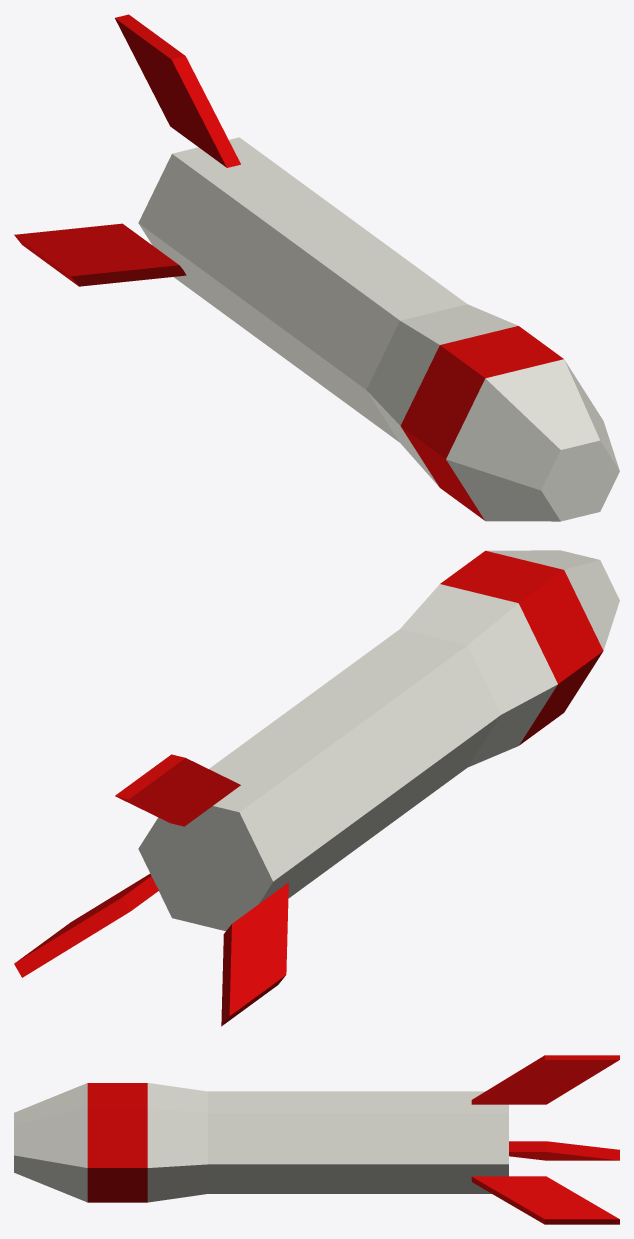
File: projectileMissile.fbx
3 views of the same model, one above another, from view 1: azimuth 30°, elevation 25°; view 2: azimuth 150°, elevation 25°; view 3: azimuth 270°, elevation 25° (orthographic). The views are drawn at different scales.
Visible parts, largest first — view 1: missileBody, missileFin3, missileFin1; view 2: missileBody, missileFin3, missileFin1, missileFin2; view 3: missileBody, missileFin1, missileFin2, missileFin3.
Boxes of the visible parts, left/top/right/bottom form: missileBody: left=138, top=137, right=619, bottom=521; missileFin3: left=14, top=223, right=186, bottom=286; missileFin1: left=115, top=14, right=240, bottom=167; missileBody: left=138, top=550, right=619, bottom=931; missileFin3: left=221, top=882, right=288, bottom=1026; missileFin1: left=115, top=754, right=240, bottom=826; missileFin2: left=14, top=874, right=158, bottom=977; missileBody: left=14, top=1083, right=508, bottom=1202; missileFin1: left=471, top=1055, right=619, bottom=1104; missileFin2: left=471, top=1176, right=619, bottom=1224; missileFin3: left=509, top=1141, right=619, bottom=1160.
Size of the model in its own units: 2.74 by 2.48 by 10.08.
